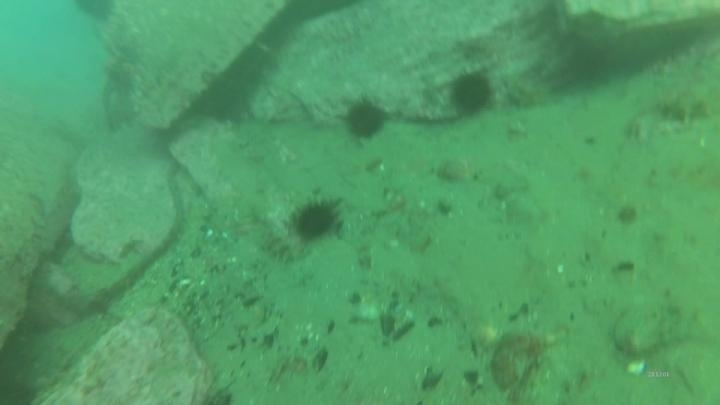echinus: (198, 74, 251, 126), (289, 196, 343, 244), (448, 69, 495, 118), (342, 97, 389, 143), (72, 0, 119, 25)
holothurian: (652, 46, 720, 127), (256, 213, 309, 265)
